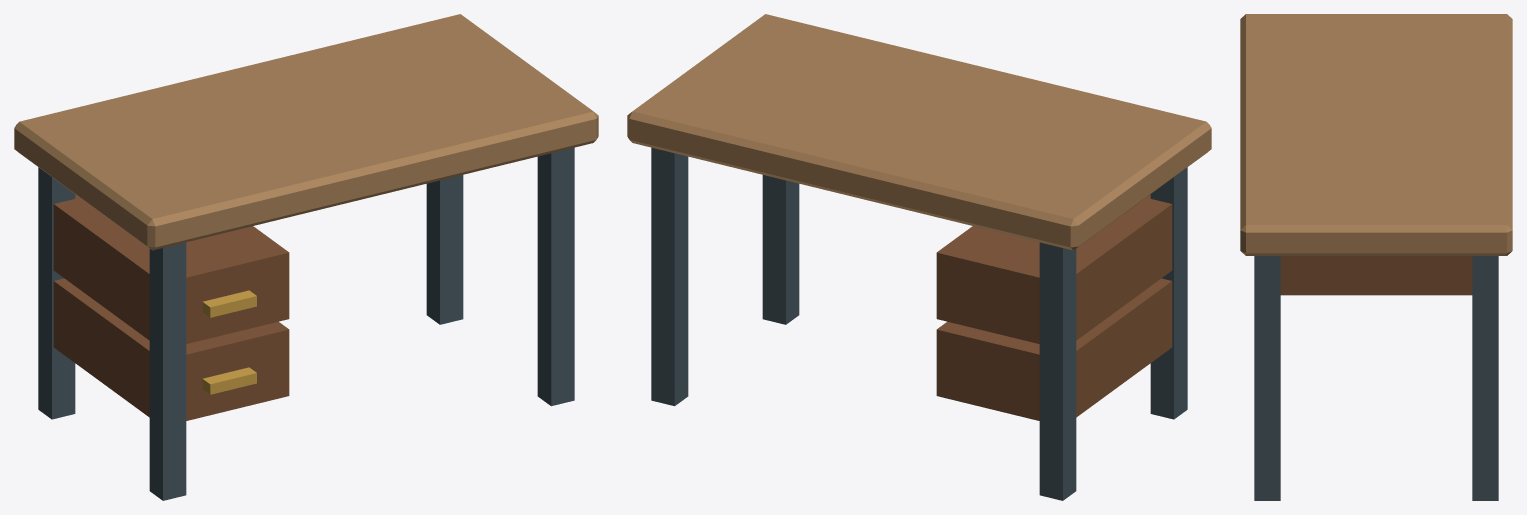
Rendered from writing_desk.glb.
The picture shows the model from 3 angles, left to right: view 1: azimuth 30°, elevation 25°; view 2: azimuth 150°, elevation 25°; view 3: azimuth 270°, elevation 25°; orthographic projection.
Parts seen in each view (by area): view 1: writing_desk; view 2: writing_desk; view 3: writing_desk.
Boxes of the visible parts, left/top/right/bottom form: writing_desk: left=14, top=14, right=598, bottom=500; writing_desk: left=627, top=14, right=1211, bottom=500; writing_desk: left=1240, top=14, right=1512, bottom=500.
Size of the model in its own units: 1.35 by 0.825 by 0.72.
